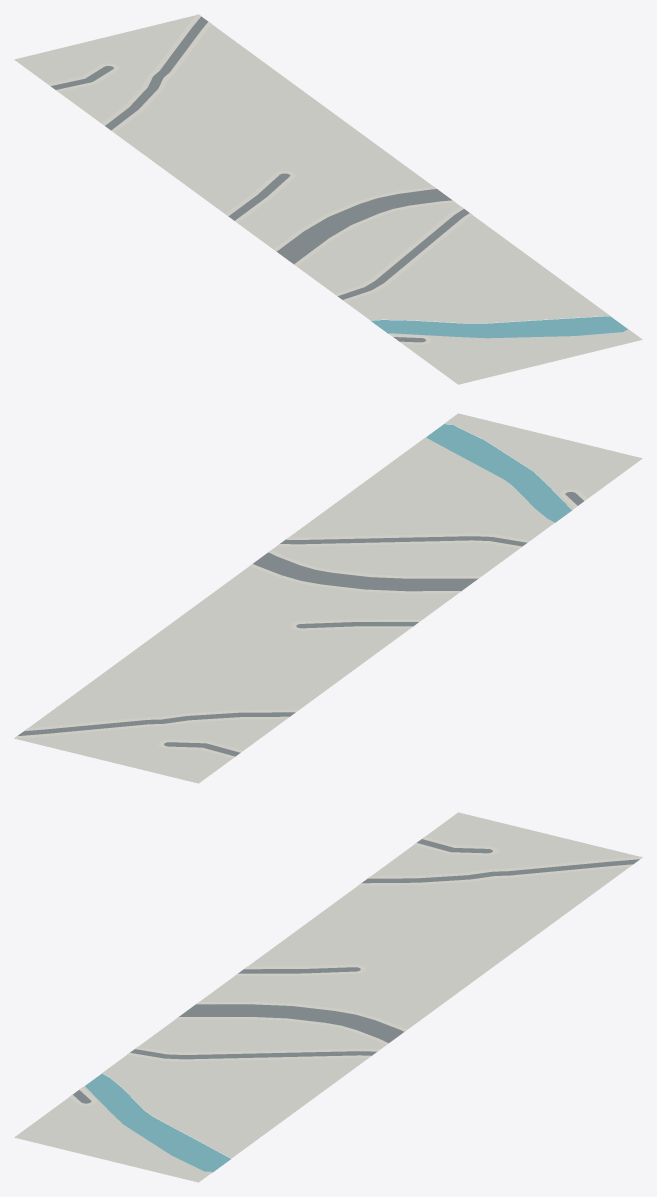
The picture shows the model from 3 angles, top to bottom: view 1: azimuth 30°, elevation 25°; view 2: azimuth 150°, elevation 25°; view 3: azimuth 330°, elevation 25°; orthographic projection.
Visible parts, largest first — view 1: city; view 2: city; view 3: city.
Part boxes in pixels (<box>): city: <box>14,14,642,384</box>; city: <box>14,413,642,783</box>; city: <box>14,812,642,1182</box>.
Size of the model in its own units: 120 by 0.4 by 500.
